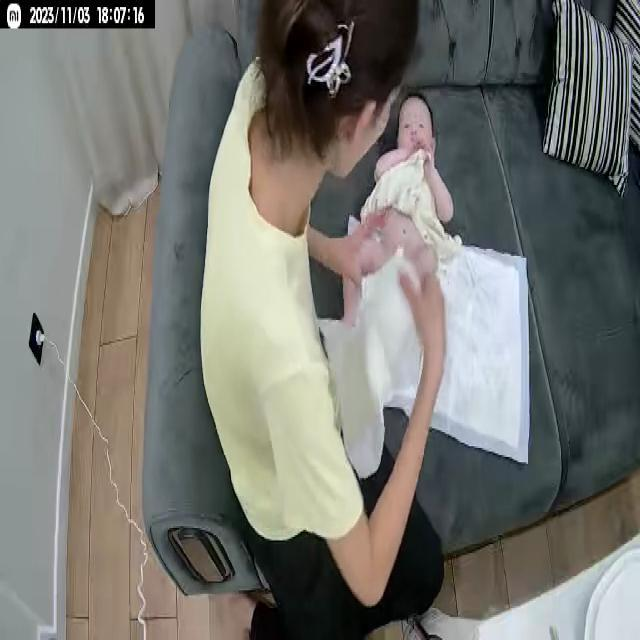baby: (339, 86, 456, 394)
